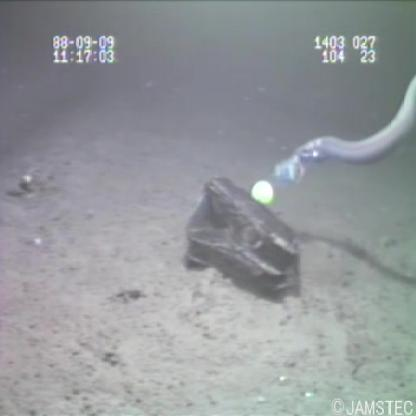Bio: (278, 68, 415, 168)
Rác: (178, 170, 306, 300)
